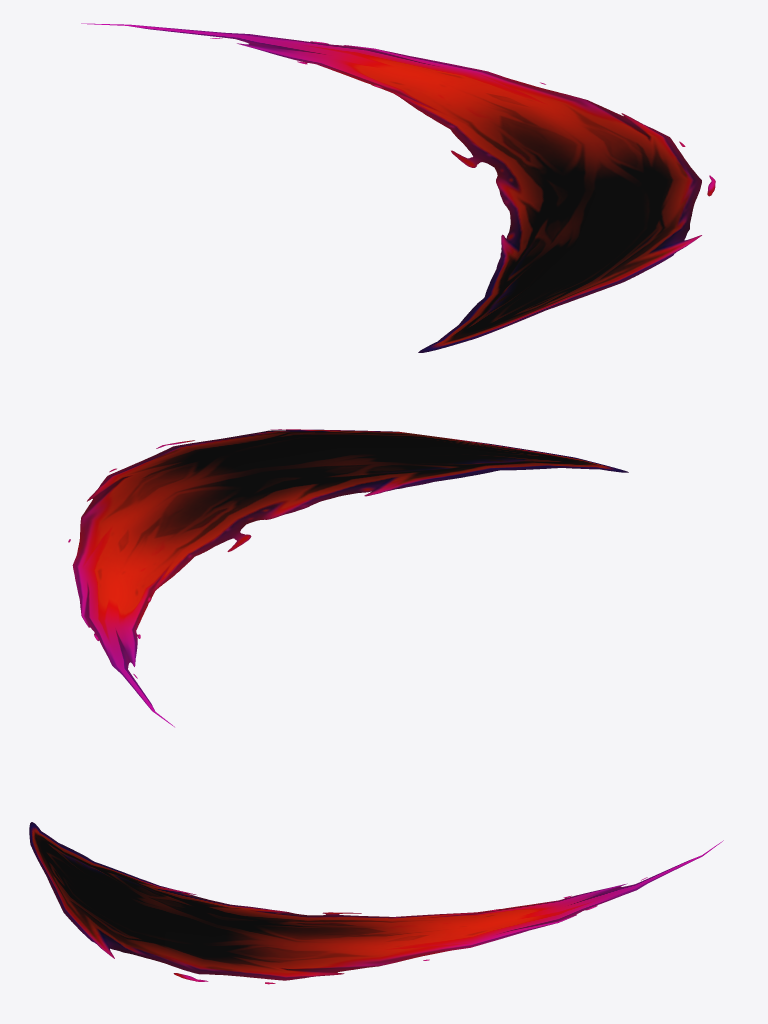
File: FX_maikebai_attack1_mod1.FBX
3 views of the same model, one above another, from view 1: azimuth 30°, elevation 25°; view 2: azimuth 150°, elevation 25°; view 3: azimuth 270°, elevation 25° (orthographic). The views are drawn at different scales.
Parts seen in each view (by area): view 1: daoguang1; view 2: daoguang1; view 3: daoguang1.
Boxes of the visible parts, x1,y1,x2,y2 form: daoguang1: (81, 23, 715, 352); daoguang1: (68, 429, 628, 727); daoguang1: (29, 822, 723, 984).
Bounding box in the file's own units: 22.37 × 29.6 × 0.9166.
